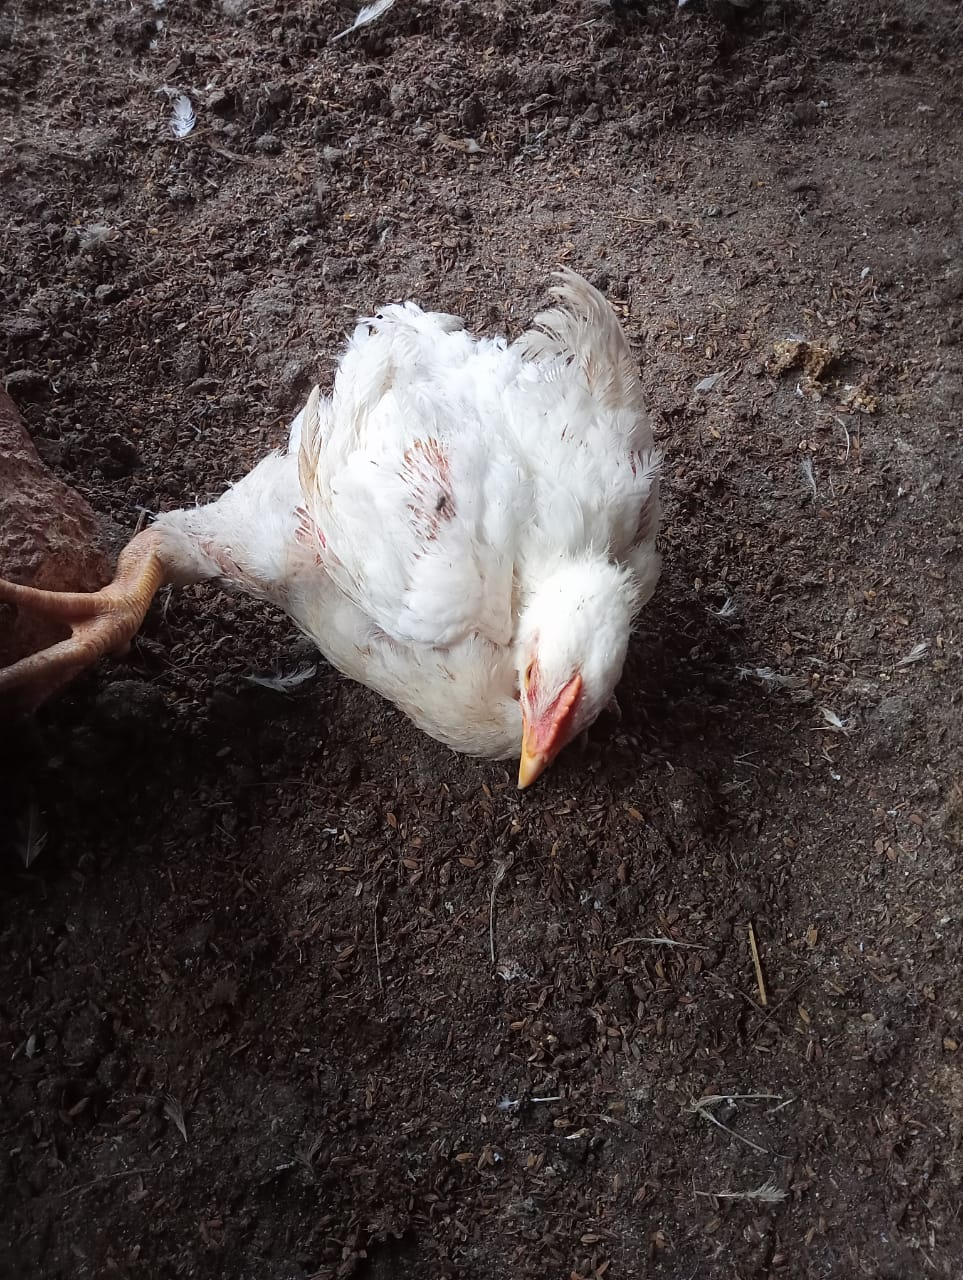Unhealthy: (7, 250, 670, 791)
